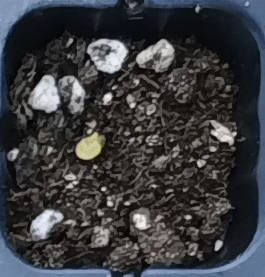pepper seed: (24, 52, 127, 213)
